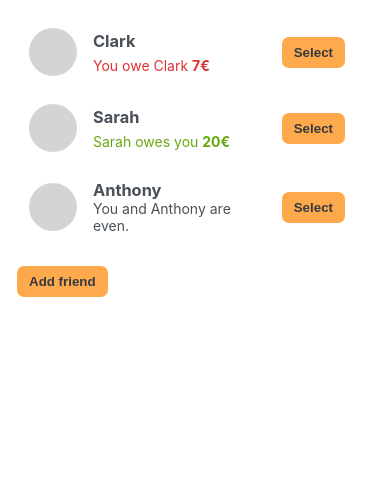
Test: App Integration Test › renders friend list and toggles add friend form
This screenshot has width=374, height=492.
Check: the list is shown, box [17,16,357,246]
Click the button "Add friend": (62, 282) [17,266,108,297]
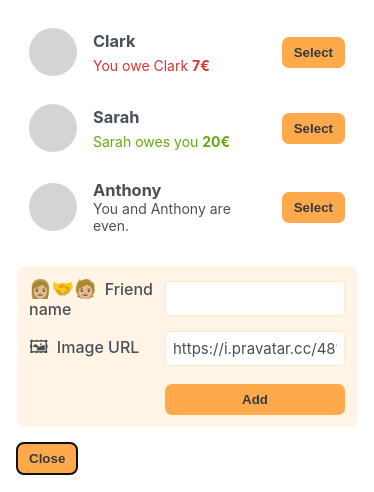
Check: the field labelled "👩🏼‍🤝‍🧑🏼 Friend name" is shown, box [165,281,345,316]
Click the button named "add friend": (47, 459) [17,443,77,474]
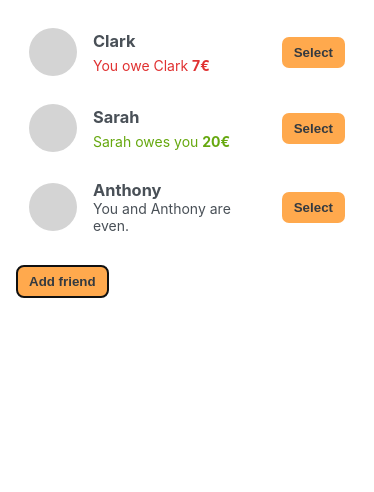
Check: the label labelled "Friend name" is gone
